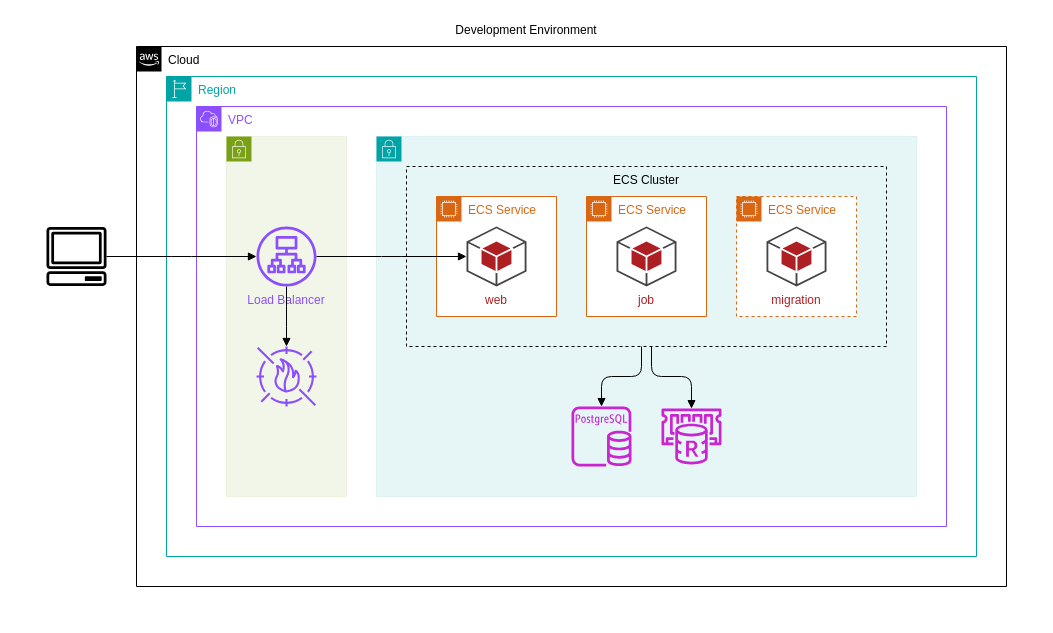
Some shapes in this 1053 by 633 pixel diagram are drawn without their labels. Here are the shapes that lost their labels. From the top down, the box of each, then its label:
(46, 226, 106, 286): Client
(226, 136, 346, 496): Public Subnet
(376, 136, 916, 496): Private Subnet
(256, 346, 316, 406): Waf
(570, 406, 632, 466): Postgres
(660, 406, 722, 466): Redis
